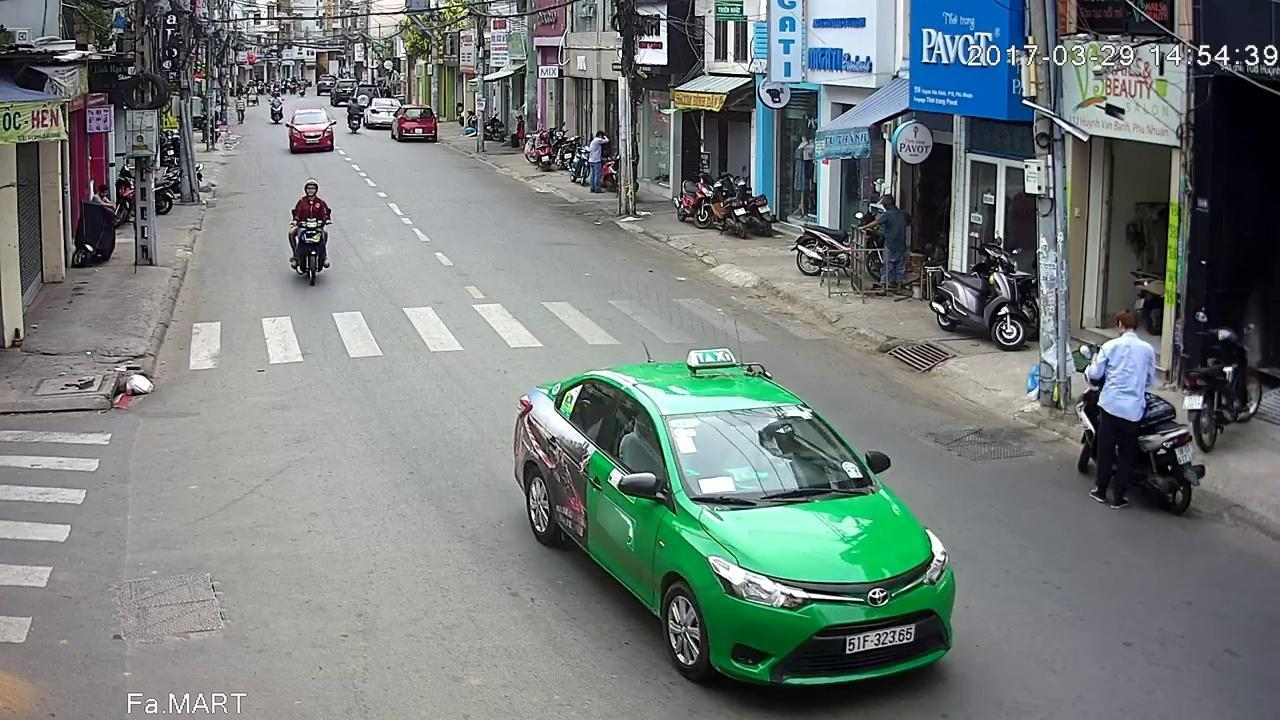xe hoi: (513, 316, 957, 720), (284, 107, 338, 152), (392, 103, 440, 142)
xe may: (291, 184, 335, 291)
